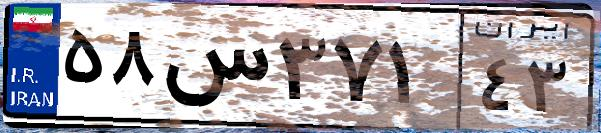1: (385, 28, 445, 110)
3: (270, 28, 330, 110), (525, 38, 570, 115)
4: (475, 38, 525, 113)
5: (57, 26, 110, 100)
7: (330, 28, 385, 110)
8: (110, 28, 158, 98)
س: (158, 20, 270, 120)
